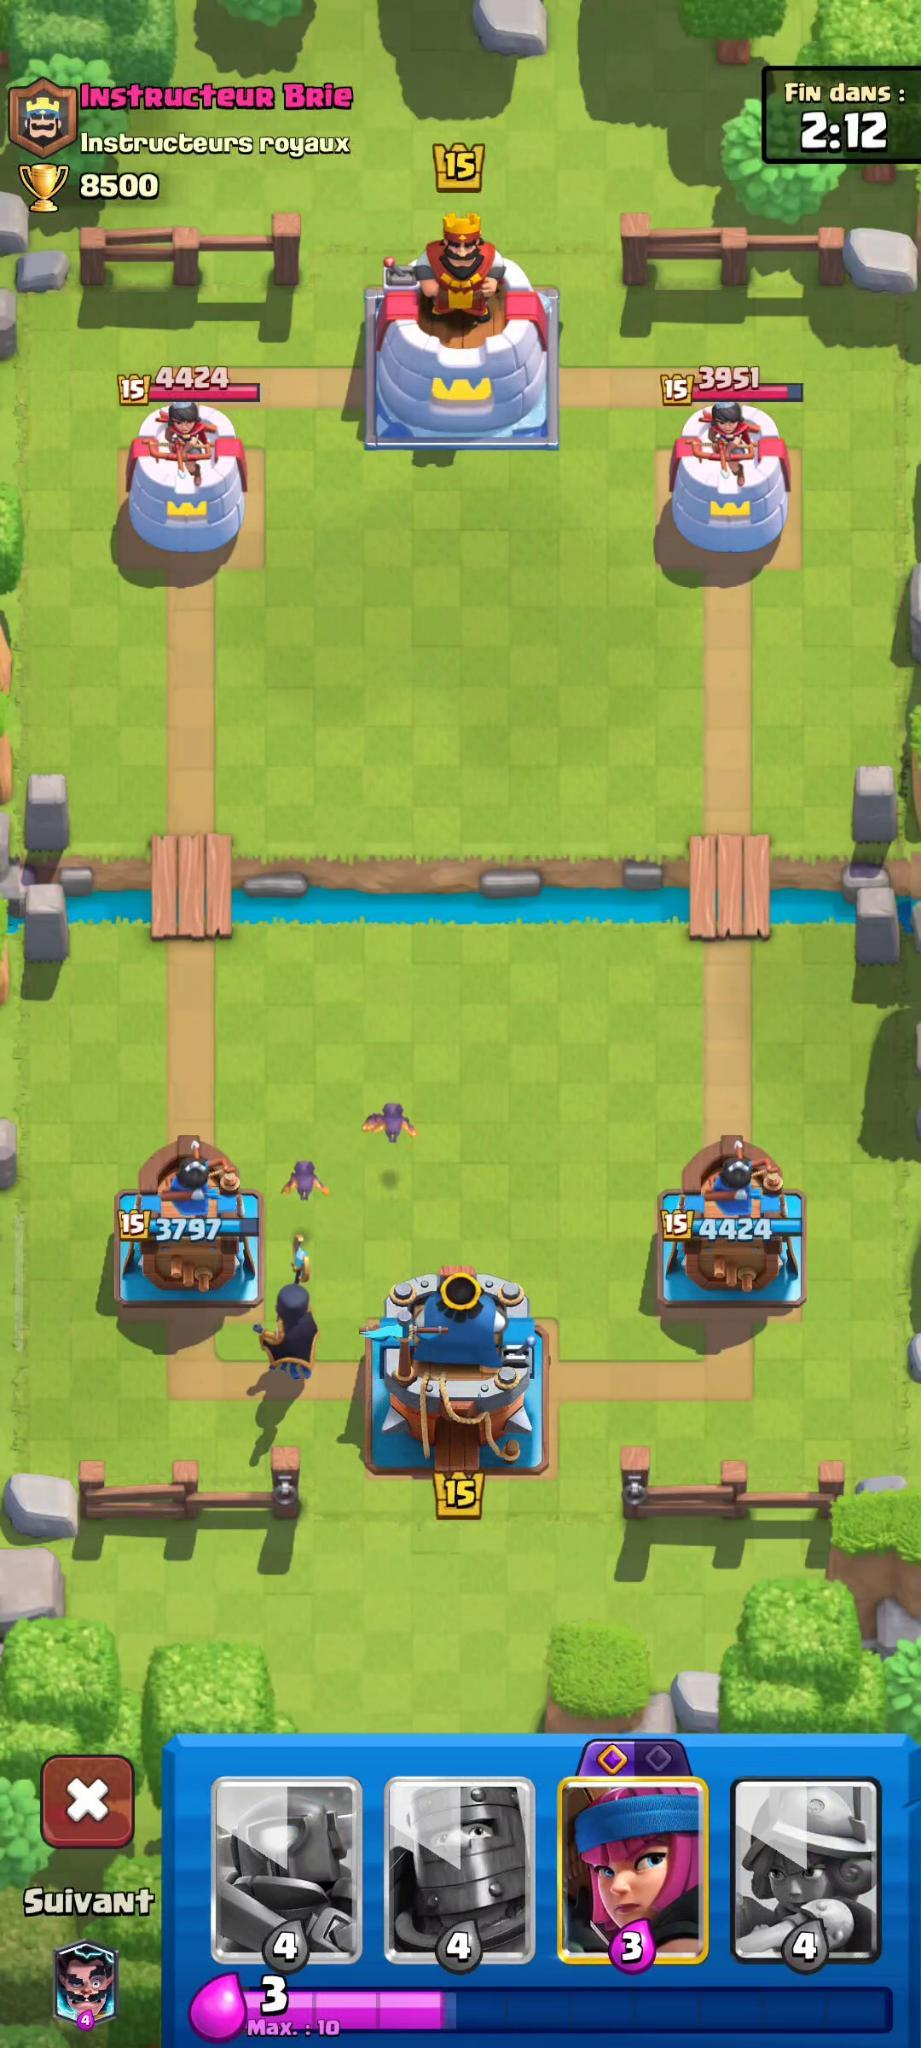player_bats: (356, 1077, 428, 1154), (276, 1141, 335, 1213)
player_night_witch: (241, 1235, 330, 1393)
